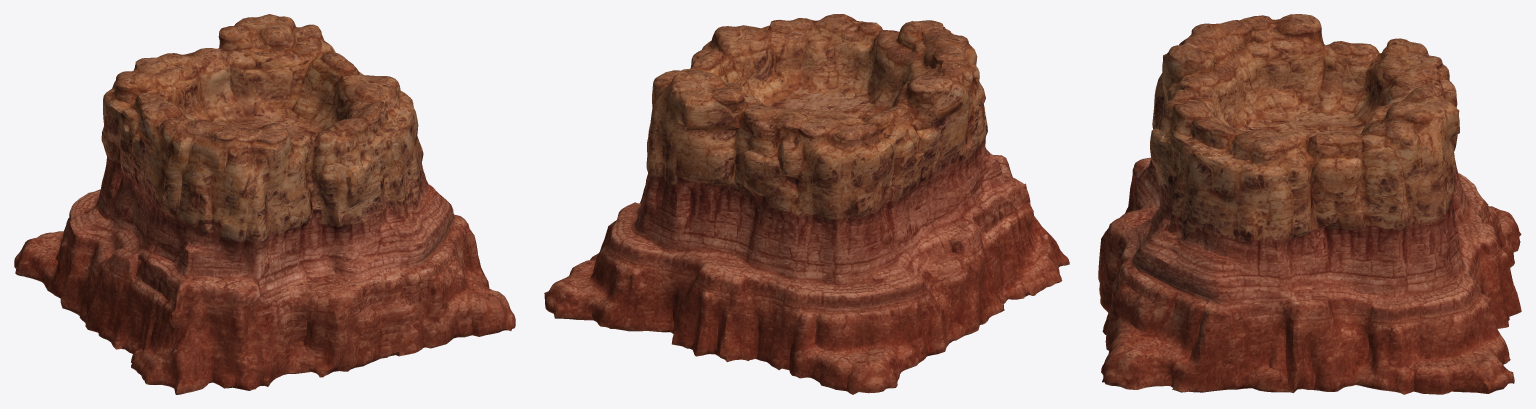
The model's file is Desert_Cliff_Mesa_High_runtime_2k_lods.glb.
3 views of the same model, side by side, from view 1: azimuth 30°, elevation 25°; view 2: azimuth 150°, elevation 25°; view 3: azimuth 270°, elevation 25° (orthographic). The views are drawn at different scales.
Visible parts, largest first — view 1: DesertCliffMesaHigh_LOD0; view 2: DesertCliffMesaHigh_LOD0; view 3: DesertCliffMesaHigh_LOD0.
Part boxes in pixels (left/top/right/bottom): DesertCliffMesaHigh_LOD0: left=14, top=14, right=515, bottom=394; DesertCliffMesaHigh_LOD0: left=544, top=14, right=1069, bottom=394; DesertCliffMesaHigh_LOD0: left=1098, top=14, right=1521, bottom=394.
Size of what is drawn, in the model's own units: 1.89 by 1.14 by 1.87.
1 material, 1 textured.
